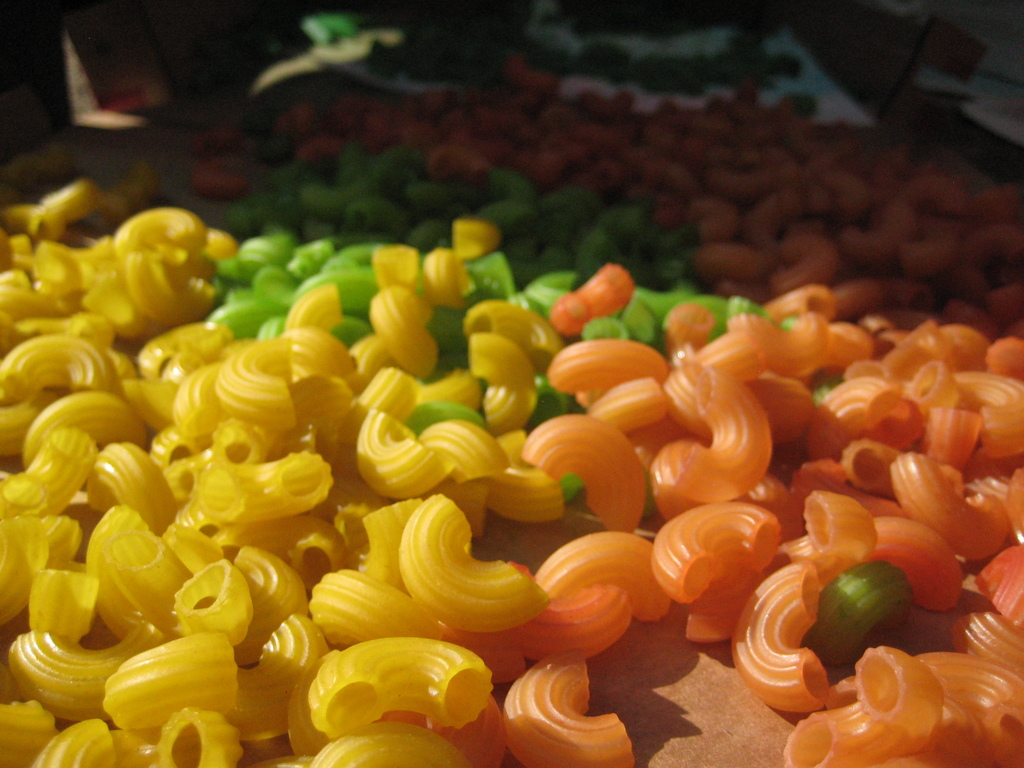pasta: (0, 87, 1024, 755)
